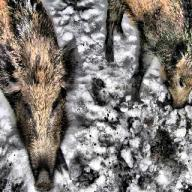boar: (0, 0, 80, 191), (102, 0, 191, 110)
